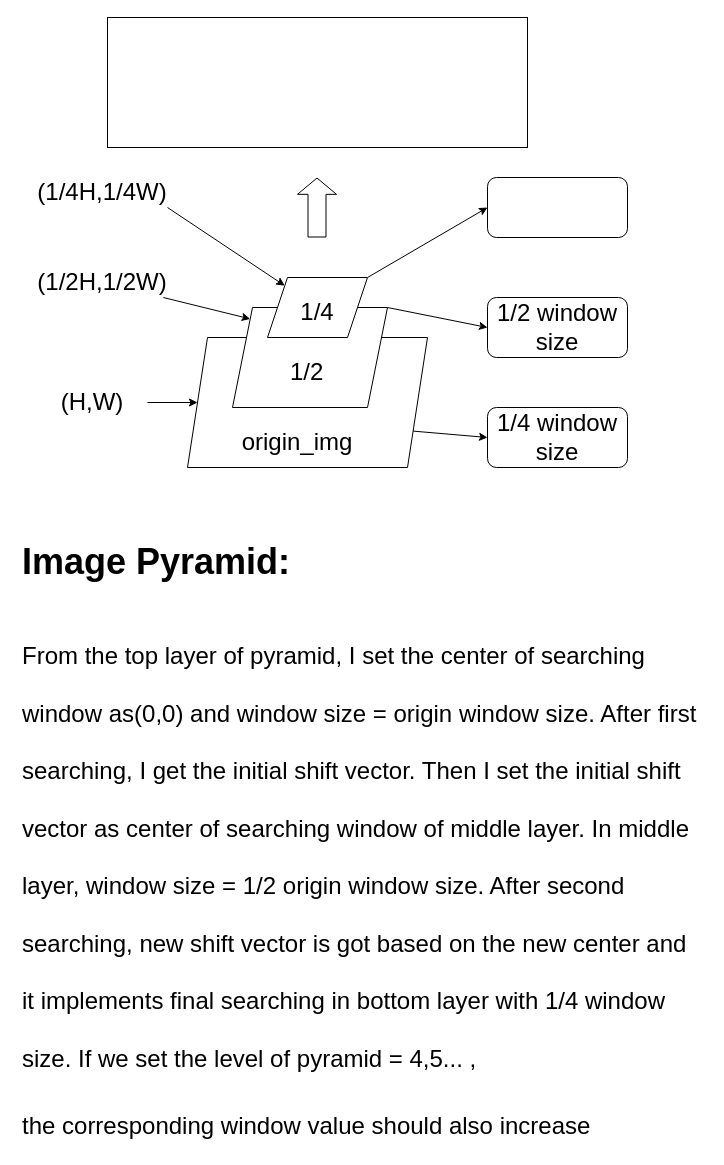
This 724x1165 diagram has some shape labels left out. The shapes that lost their labels are listed below. From the top down, each one's centre as x and y in pixels, then its label:
the point at 317,82: top = cv2.resize(img, (1/4H, 1/4W)) mid = cv2.resize(img, (1/2H, 1/2W))
the point at 557,207: window size
